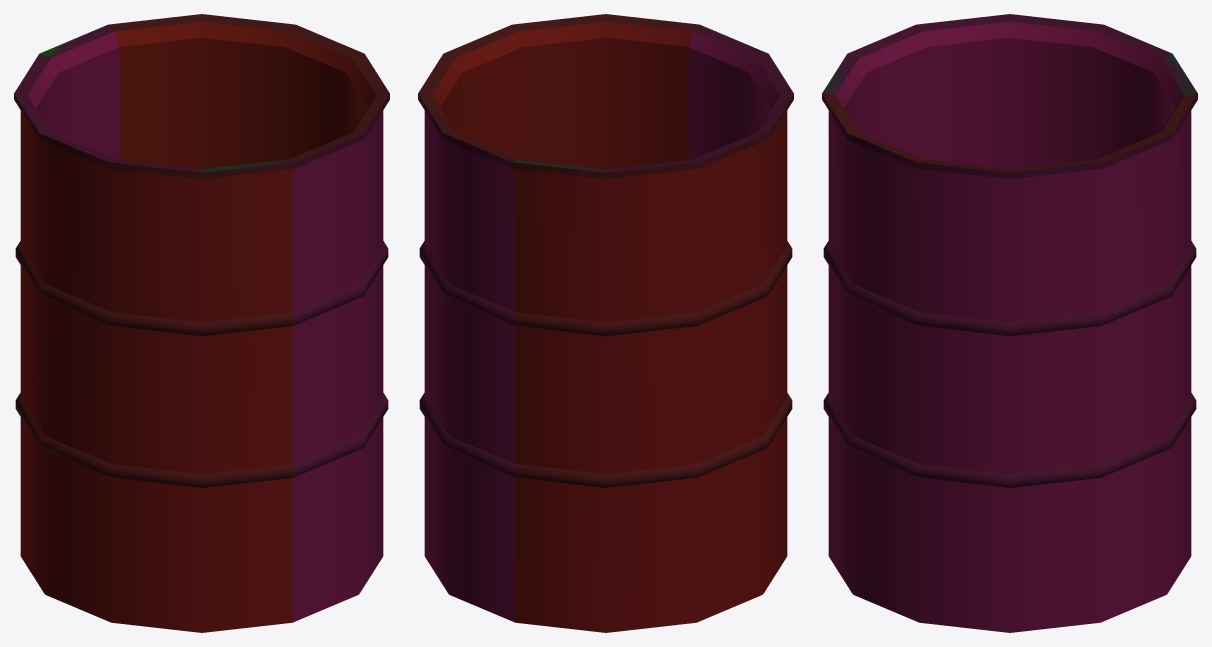
File: BarrisMetalicosAbertos.fbx
The picture shows the model from 3 angles, left to right: view 1: azimuth 30°, elevation 25°; view 2: azimuth 150°, elevation 25°; view 3: azimuth 270°, elevation 25°; orthographic projection.
Parts seen in each view (by area): view 1: MetallicBarrelsOpenedR, MetallicBarrelsOpenedP; view 2: MetallicBarrelsOpenedR, MetallicBarrelsOpenedP; view 3: MetallicBarrelsOpenedP, MetallicBarrelsOpenedR.
Boxes of the visible parts, x1,y1,x2,y2 form: MetallicBarrelsOpenedR: (14, 14, 389, 632); MetallicBarrelsOpenedP: (14, 25, 389, 622); MetallicBarrelsOpenedR: (418, 14, 793, 632); MetallicBarrelsOpenedP: (418, 25, 793, 622); MetallicBarrelsOpenedP: (822, 14, 1197, 632); MetallicBarrelsOpenedR: (822, 93, 1197, 399).
Bounding box in the file's own units: 207 × 282 × 207.
